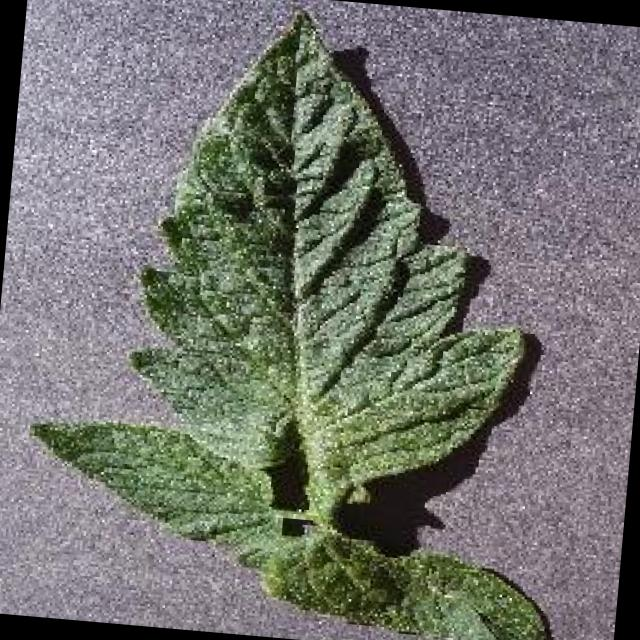Tomato_Healthy: (41, 1, 578, 548)
